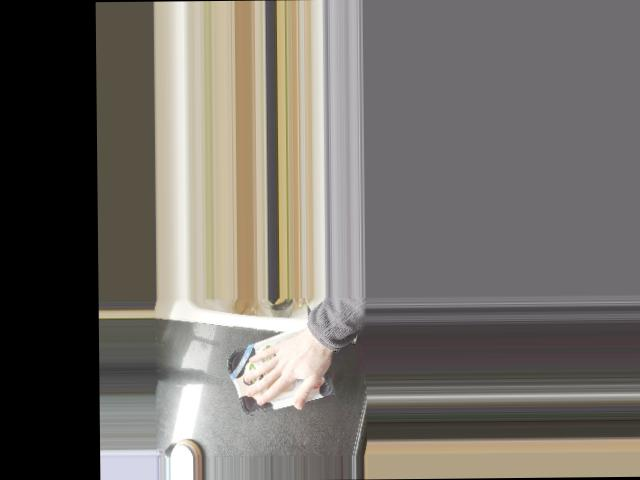cheese: (224, 321, 335, 417)
